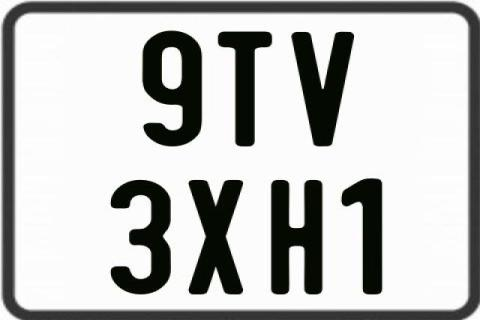0: (142, 29, 208, 147), (108, 177, 172, 297), (340, 177, 387, 296)
H: (272, 178, 322, 296)
T: (215, 31, 275, 149)
V: (289, 31, 352, 147)
X: (186, 178, 244, 294)
